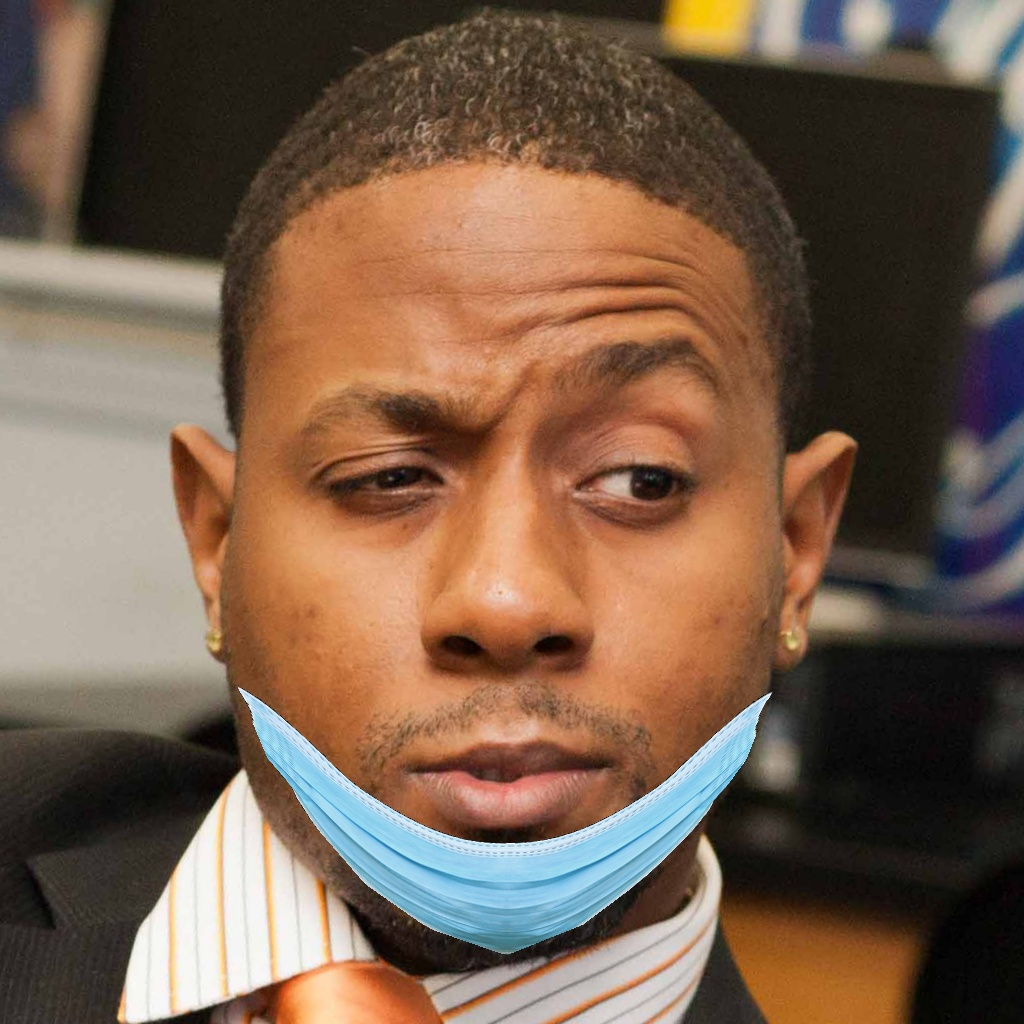mascarilla_mal_puesta: (227, 313, 844, 988)
